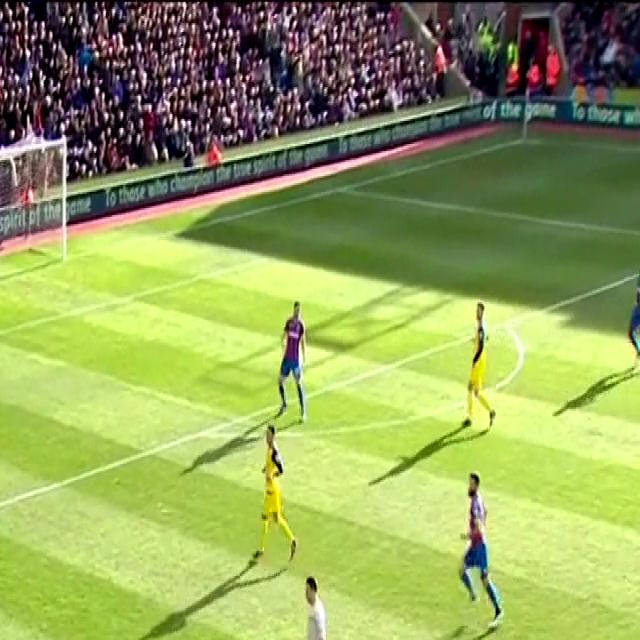referee: (287, 565, 331, 640)
soccer-player: (451, 462, 509, 637), (251, 411, 299, 565), (458, 291, 498, 440), (272, 292, 309, 426)
